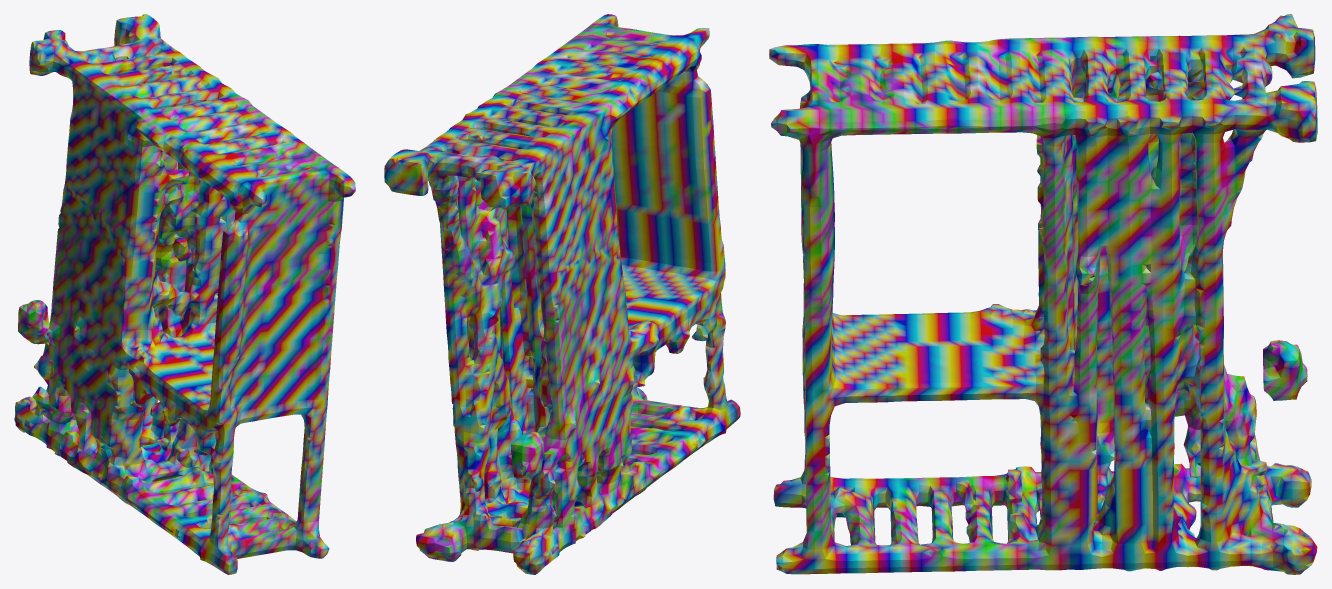
The model's file is ScaffoldA.dae.
3 views of the same model, side by side, from view 1: azimuth 30°, elevation 25°; view 2: azimuth 150°, elevation 25°; view 3: azimuth 270°, elevation 25° (orthographic). The views are drawn at different scales.
Visible parts, largest first — view 1: node; view 2: node; view 3: node.
Boxes of the visible parts, <box> form: node: <box>14,14,355,574</box>; node: <box>384,14,740,574</box>; node: <box>769,14,1317,574</box>.
Size of the model in its own units: 1.38 by 3.52 by 3.47.
